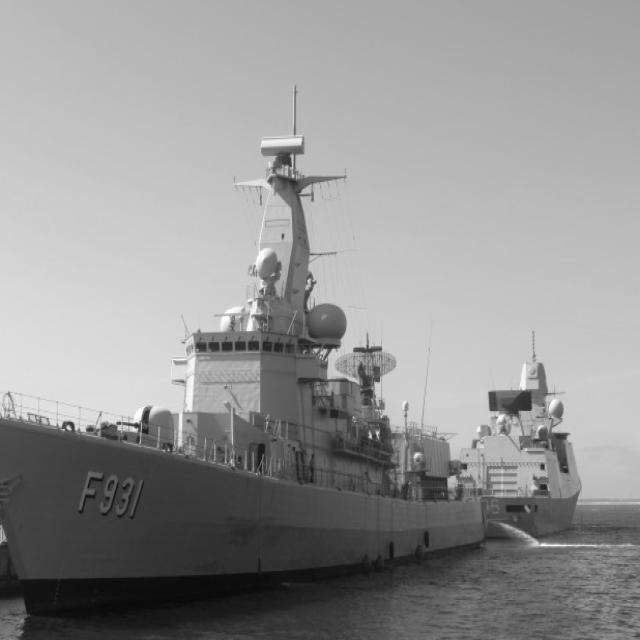Fragata: (1, 136, 501, 627)
